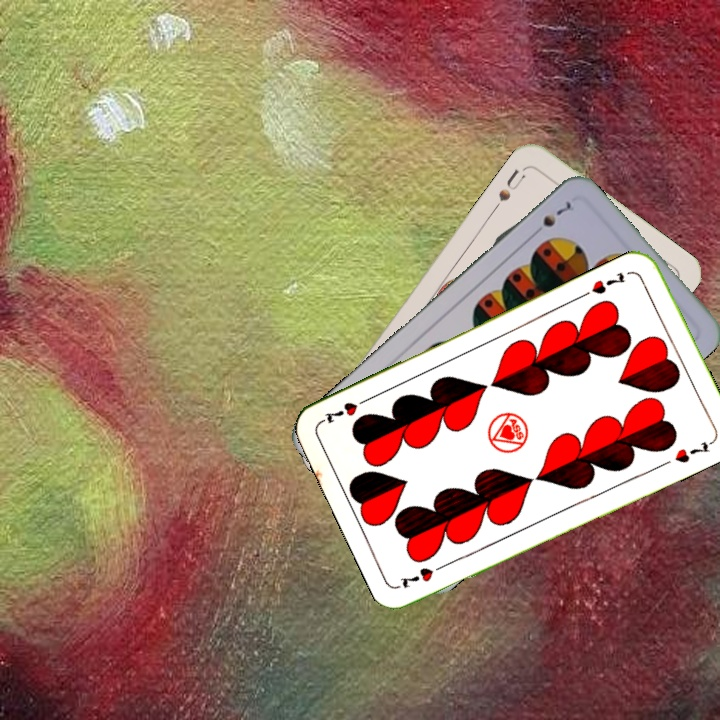H7: (396, 558, 451, 591), (587, 268, 628, 297)
S7: (528, 197, 574, 239)
SU: (489, 165, 528, 214)
